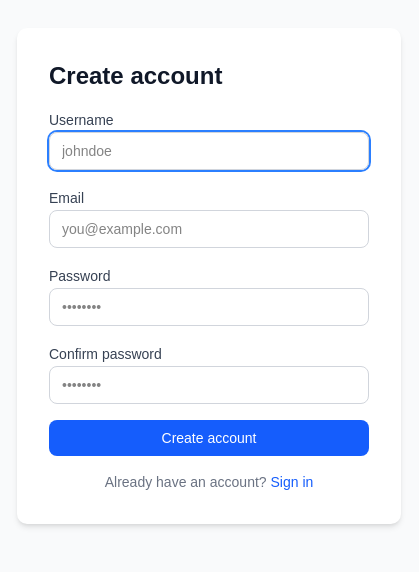
RegisterPage › displays server error inline
Type "alice" into the field with placeholder "johndoe". click: (209, 151)
box: [49, 132, 369, 170]
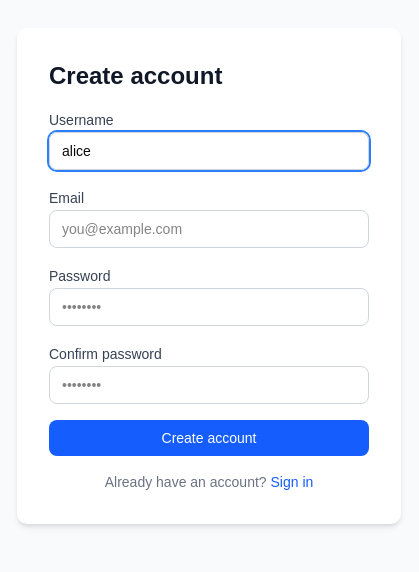
Type "alice@test.com" into the field with placeholder "you@example.com". click: (209, 229)
box: [49, 210, 369, 248]
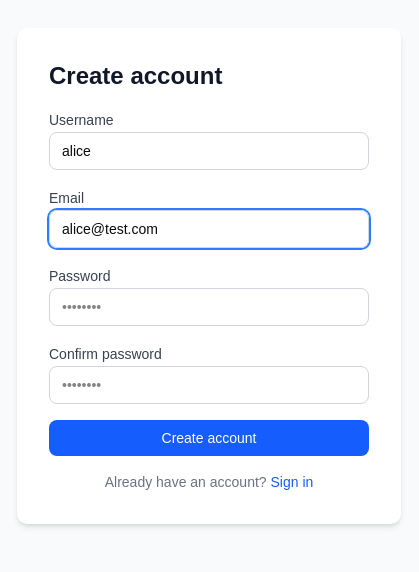
Type "password123" into the 1st password field with placeholder "••••••••". click: (209, 307)
box: [49, 288, 369, 326]
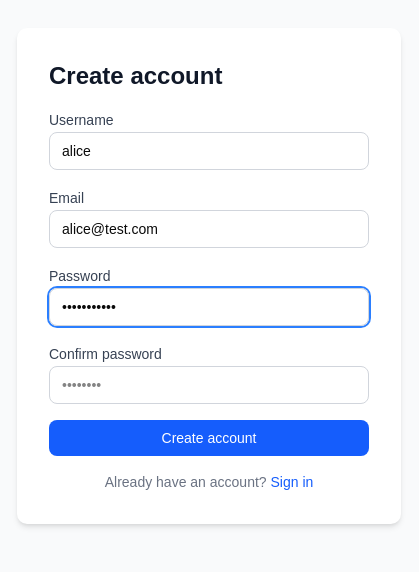
Type "password123" into the password field with placeholder "••••••••". click: (209, 385)
box: [49, 366, 369, 404]
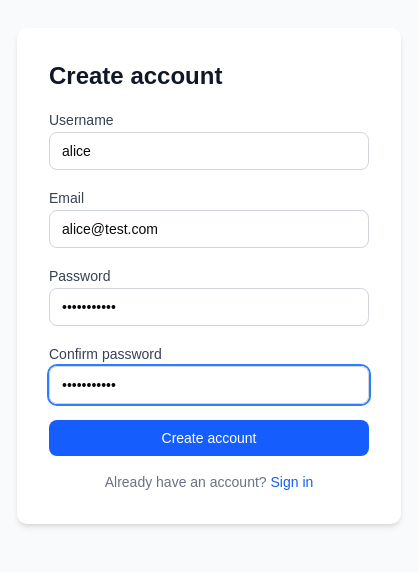
Click the button "Create account". click: (209, 438)
box: [49, 420, 369, 456]
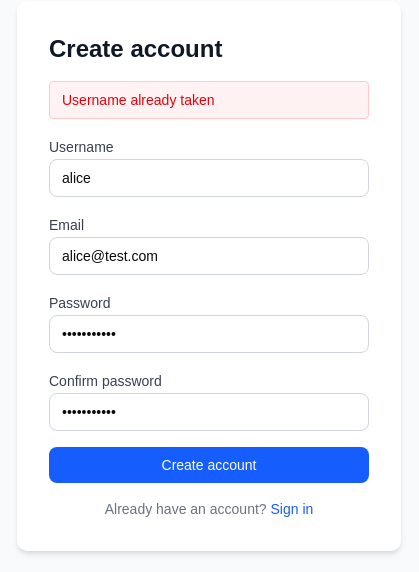
Now the text "Username already taken" is shown, box [49, 81, 369, 119]
